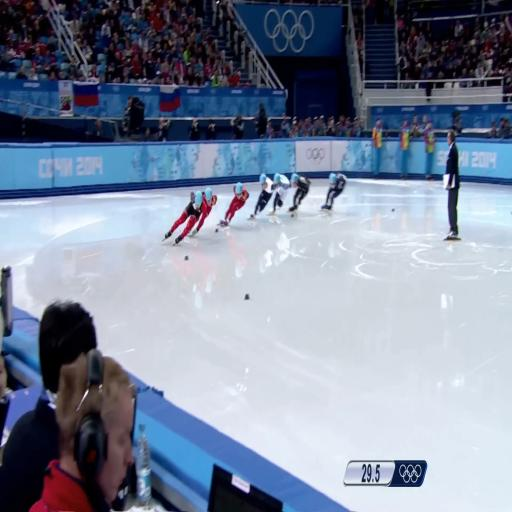Skater: (164, 192, 202, 244), (190, 188, 217, 236), (220, 183, 249, 226), (250, 174, 272, 218), (321, 174, 347, 211), (289, 174, 310, 216), (269, 174, 290, 215)
